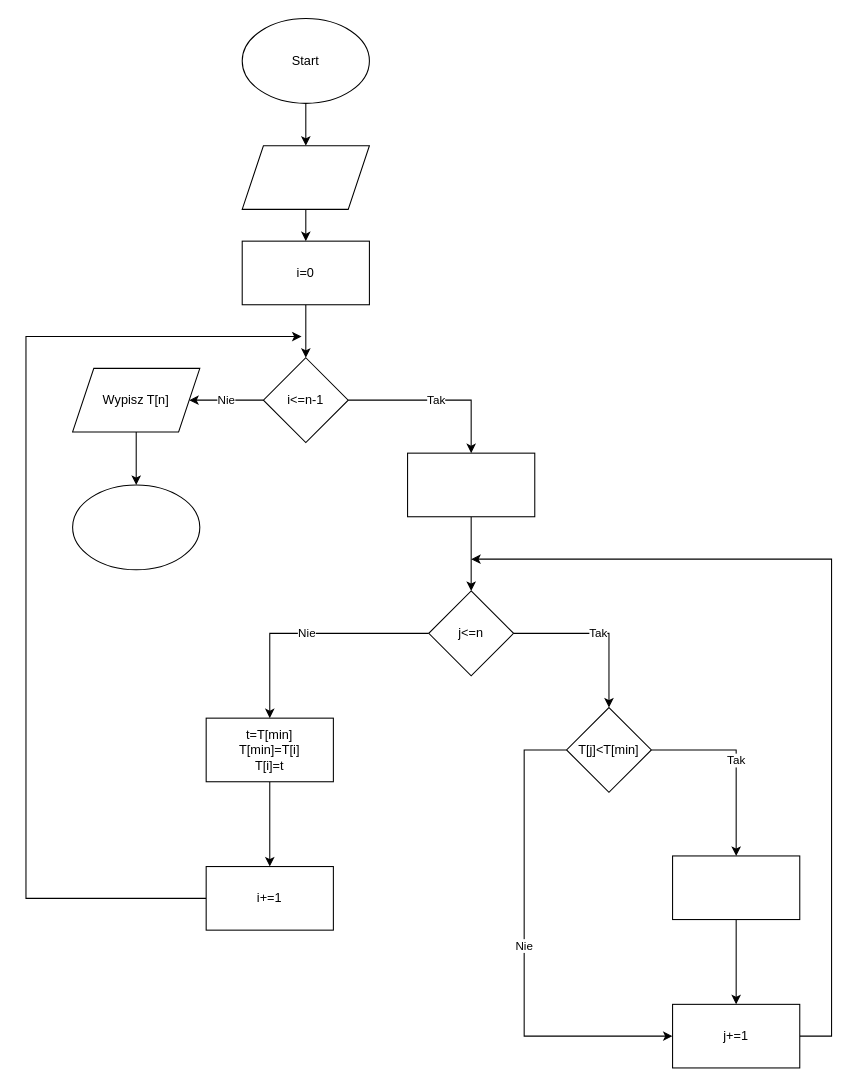
Some shapes in this 859 by 1087 pixel diagram are drawn without their labels. Here are the shapes that lost their labels. From the top down, the centre of each, then its label:
the point at 305,177: Podaj T[n]
the point at 471,484: min=i j=i+1
the point at 136,527: END
the point at 736,887: min=j
